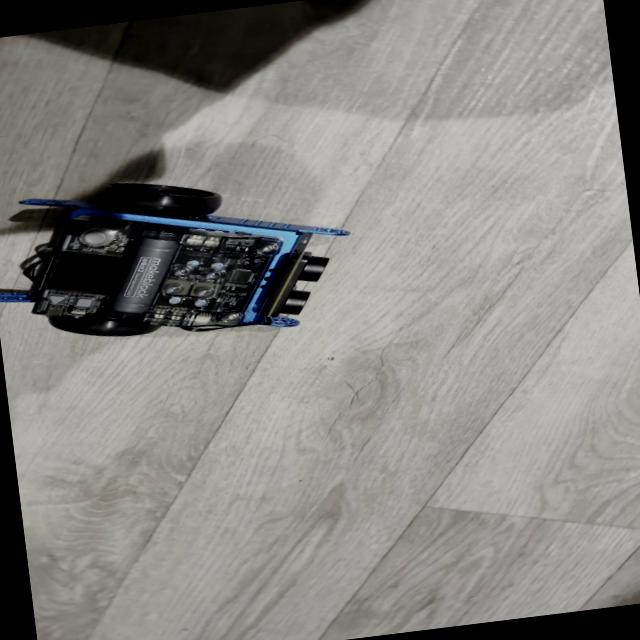mbot-detection: (0, 144, 367, 381)
